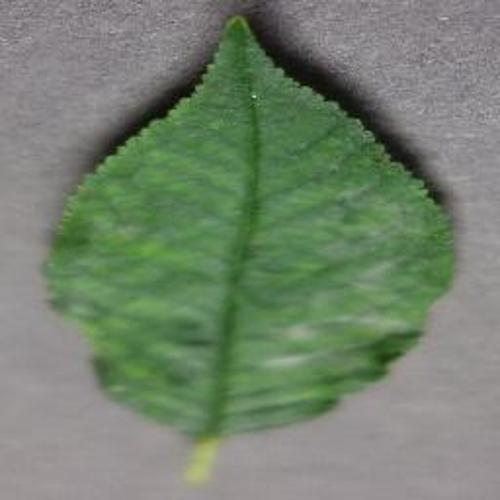Cherry: (45, 17, 455, 482)
